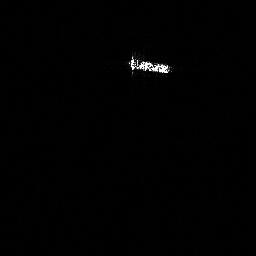ship: (124, 52, 174, 76)
